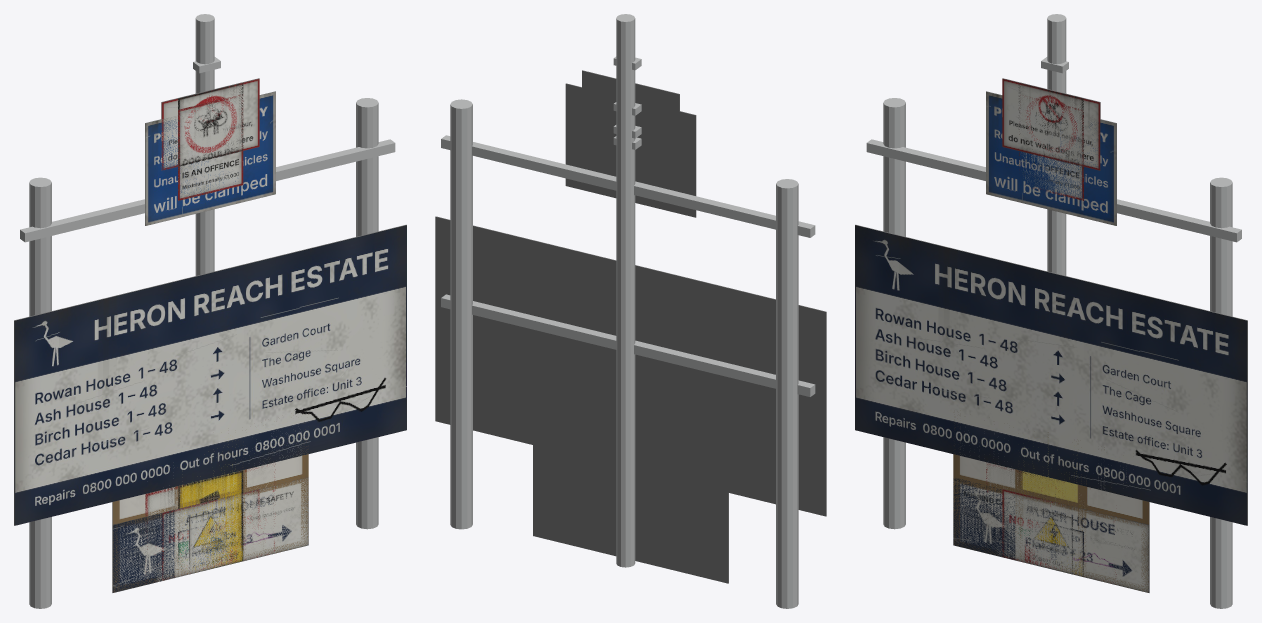
The model's file is heron-reach-sl-signs.glb.
3 renders of one model, left to right at view 1: azimuth 30°, elevation 25°; view 2: azimuth 150°, elevation 25°; view 3: azimuth 330°, elevation 25°, orthographic.
Visible parts, largest first — view 1: hr_prop_sign_estate_board_posts, hr_prop_sign_block_alder, hr_prop_sign_notice_board_paper, hr_prop_sign_dog_fouling_post, hr_prop_sign_private_parking_post, hr_prop_sign_no_cycling_post, hr_prop_sign_no_dogs_please_post, hr_prop_sign_cctv, hr_prop_sign_no_ball_games, hr_prop_sign_danger_of_death, hr_prop_sign_no_fly_tipping, hr_prop_sign_no_parking_garage; view 2: hr_prop_sign_estate_board_posts, hr_prop_sign_dog_fouling_post, hr_prop_sign_notice_board_paper, hr_prop_sign_block_alder, hr_prop_sign_no_dogs_please_post, hr_prop_sign_private_parking_post, hr_prop_sign_cctv, hr_prop_sign_no_fly_tipping, hr_prop_sign_bins_tuesday, hr_prop_sign_anti_climb, hr_prop_sign_no_ball_games, hr_prop_sign_garage_to_let (+1 smaller); view 3: hr_prop_sign_estate_board_posts, hr_prop_sign_block_alder, hr_prop_sign_notice_board_paper, hr_prop_sign_private_parking_post, hr_prop_sign_no_dogs_please_post, hr_prop_sign_dog_fouling_post, hr_prop_sign_no_cycling_post, hr_prop_sign_no_ball_games, hr_prop_sign_danger_of_death, hr_prop_sign_bins_tuesday.
Boxes of the visible parts, x1,y1,x2,y2 form: hr_prop_sign_estate_board_posts: [14, 98, 406, 608]; hr_prop_sign_block_alder: [112, 477, 308, 592]; hr_prop_sign_notice_board_paper: [112, 421, 308, 592]; hr_prop_sign_dog_fouling_post: [178, 14, 243, 275]; hr_prop_sign_private_parking_post: [145, 91, 275, 225]; hr_prop_sign_no_cycling_post: [178, 82, 243, 166]; hr_prop_sign_no_dogs_please_post: [161, 78, 259, 170]; hr_prop_sign_cctv: [178, 470, 243, 569]; hr_prop_sign_no_ball_games: [161, 489, 259, 580]; hr_prop_sign_danger_of_death: [189, 508, 232, 574]; hr_prop_sign_no_fly_tipping: [145, 464, 275, 583]; hr_prop_sign_no_parking_garage: [156, 511, 265, 581]; hr_prop_sign_estate_board_posts: [435, 99, 826, 608]; hr_prop_sign_dog_fouling_post: [598, 14, 663, 567]; hr_prop_sign_notice_board_paper: [533, 399, 728, 582]; hr_prop_sign_block_alder: [533, 468, 728, 583]; hr_prop_sign_no_dogs_please_post: [582, 70, 679, 162]; hr_prop_sign_private_parking_post: [565, 83, 696, 217]; hr_prop_sign_cctv: [598, 461, 663, 560]; hr_prop_sign_no_fly_tipping: [565, 453, 694, 548]; hr_prop_sign_bins_tuesday: [598, 511, 663, 563]; hr_prop_sign_anti_climb: [598, 532, 663, 566]; hr_prop_sign_no_ball_games: [582, 481, 679, 559]; hr_prop_sign_garage_to_let: [587, 492, 670, 558]; hr_prop_sign_estate_board_posts: [855, 98, 1247, 608]; hr_prop_sign_block_alder: [953, 478, 1149, 592]; hr_prop_sign_notice_board_paper: [953, 423, 1149, 592]; hr_prop_sign_private_parking_post: [986, 91, 1116, 225]; hr_prop_sign_no_dogs_please_post: [1002, 78, 1100, 170]; hr_prop_sign_dog_fouling_post: [1019, 14, 1083, 275]; hr_prop_sign_no_cycling_post: [1018, 82, 1083, 166]; hr_prop_sign_no_ball_games: [1002, 489, 1077, 567]; hr_prop_sign_danger_of_death: [1029, 509, 1072, 574]; hr_prop_sign_bins_tuesday: [1025, 518, 1083, 576].
Size of the model in its own units: 1.8 by 2.4 by 0.099.
Materials: 3 (2 with a texture image).
